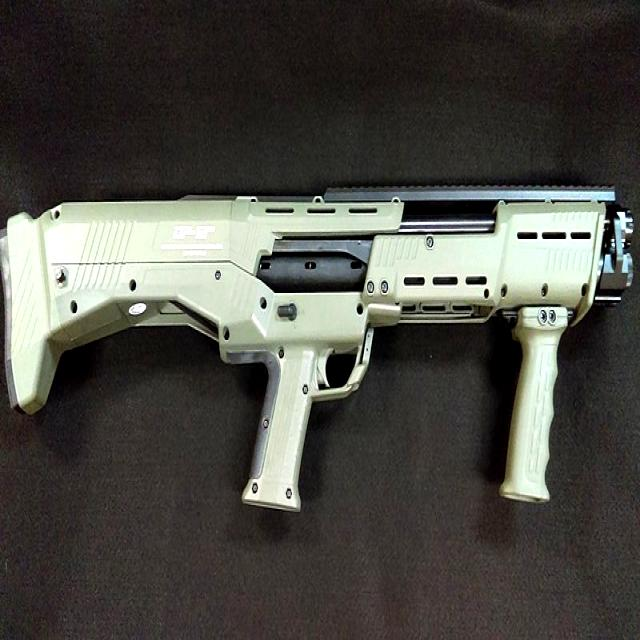shotgun: (0, 177, 637, 512)
